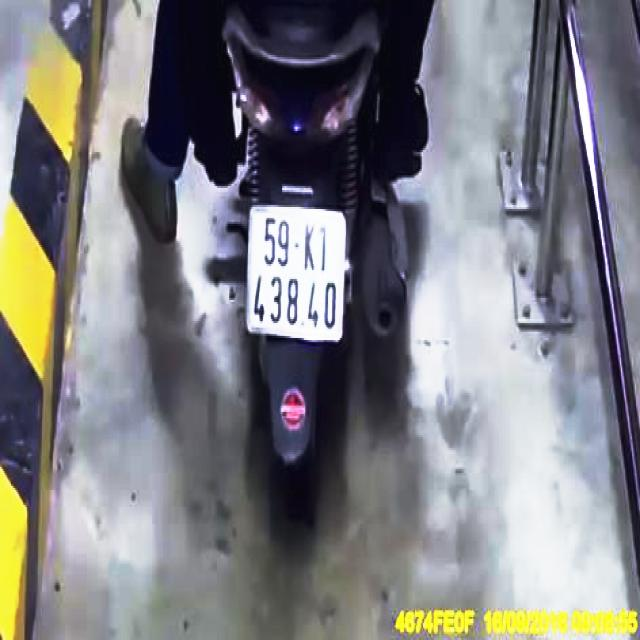license_plate: (248, 208, 347, 340)
